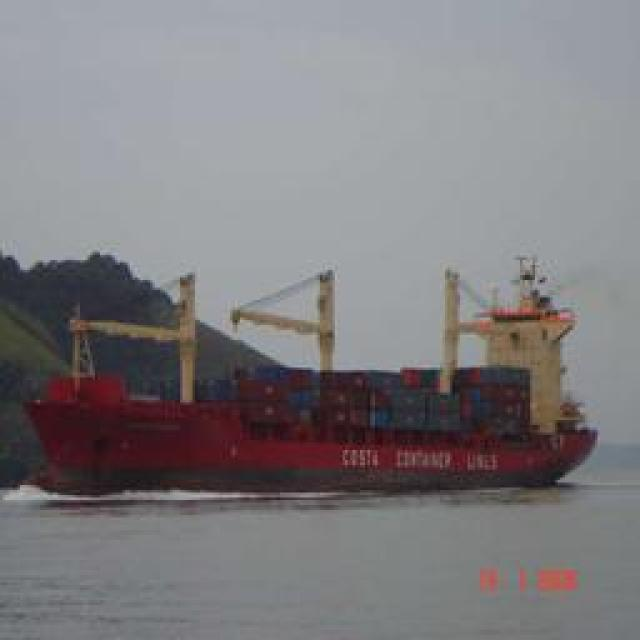ship2: (25, 256, 600, 497)
